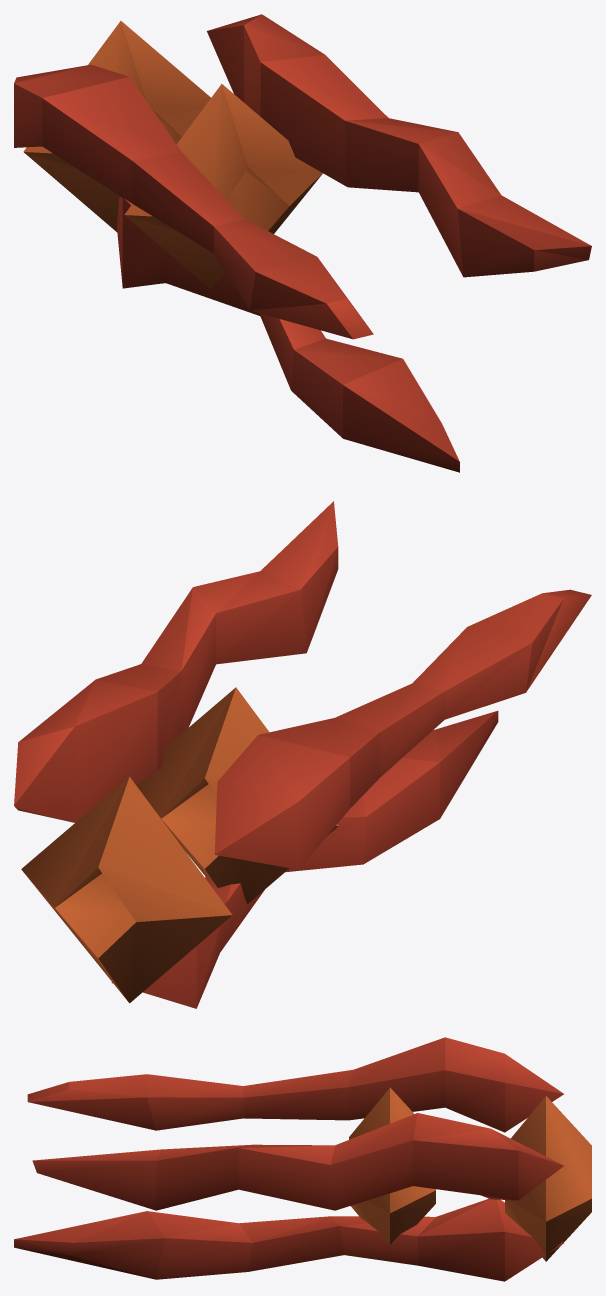
Rendered from blood_blitz_projectile.glb.
The picture shows the model from 3 angles, top to bottom: view 1: azimuth 30°, elevation 25°; view 2: azimuth 150°, elevation 25°; view 3: azimuth 270°, elevation 25°; orthographic projection. The views are drawn at different scales.
Visible parts, largest first — view 1: Blood blitz projectile spotanim; view 2: Blood blitz projectile spotanim; view 3: Blood blitz projectile spotanim.
Boxes of the visible parts, x1=… form: Blood blitz projectile spotanim: x1=14, y1=14, x2=591, y2=472; Blood blitz projectile spotanim: x1=14, y1=501, x2=591, y2=1008; Blood blitz projectile spotanim: x1=14, y1=1037, x2=591, y2=1281.
Size of the model in its own units: 55 by 46 by 126.
